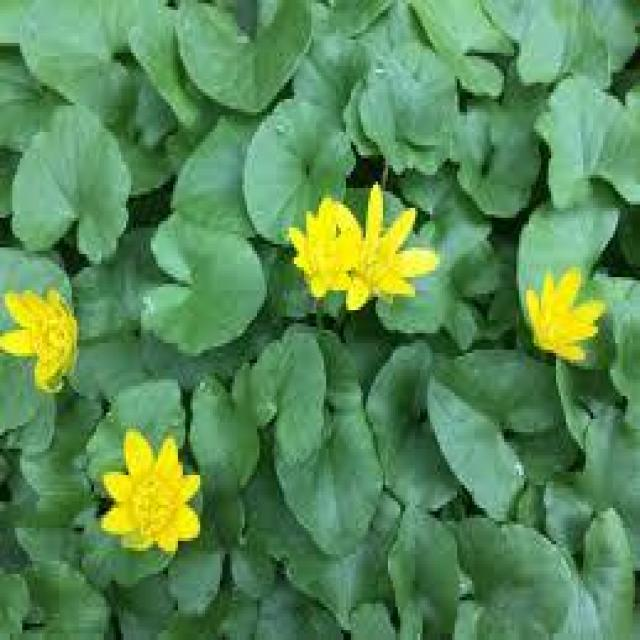organic waste: (100, 427, 204, 563), (333, 183, 438, 312), (286, 193, 370, 305), (521, 259, 608, 361), (5, 286, 81, 394)
